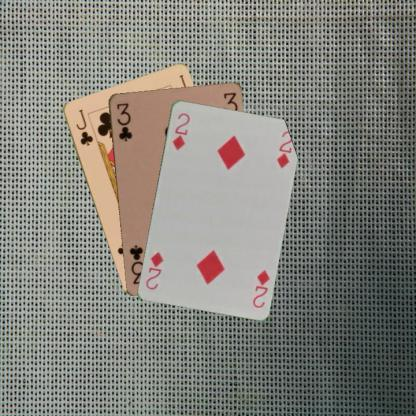2d: (170, 110, 192, 151), (250, 267, 271, 309)
3c: (114, 101, 133, 142)
Jc: (74, 106, 94, 147)
